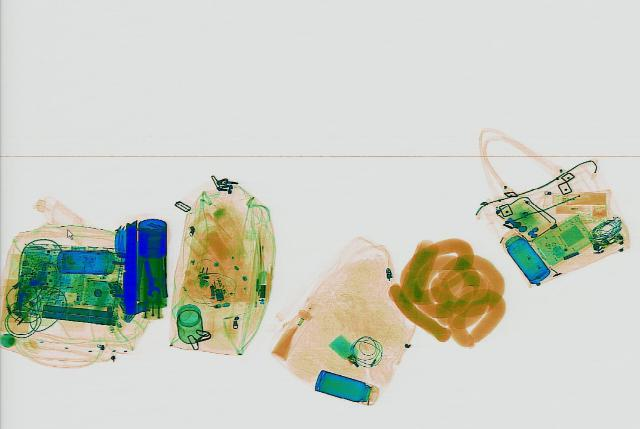Wrench: (136, 259, 160, 298)
